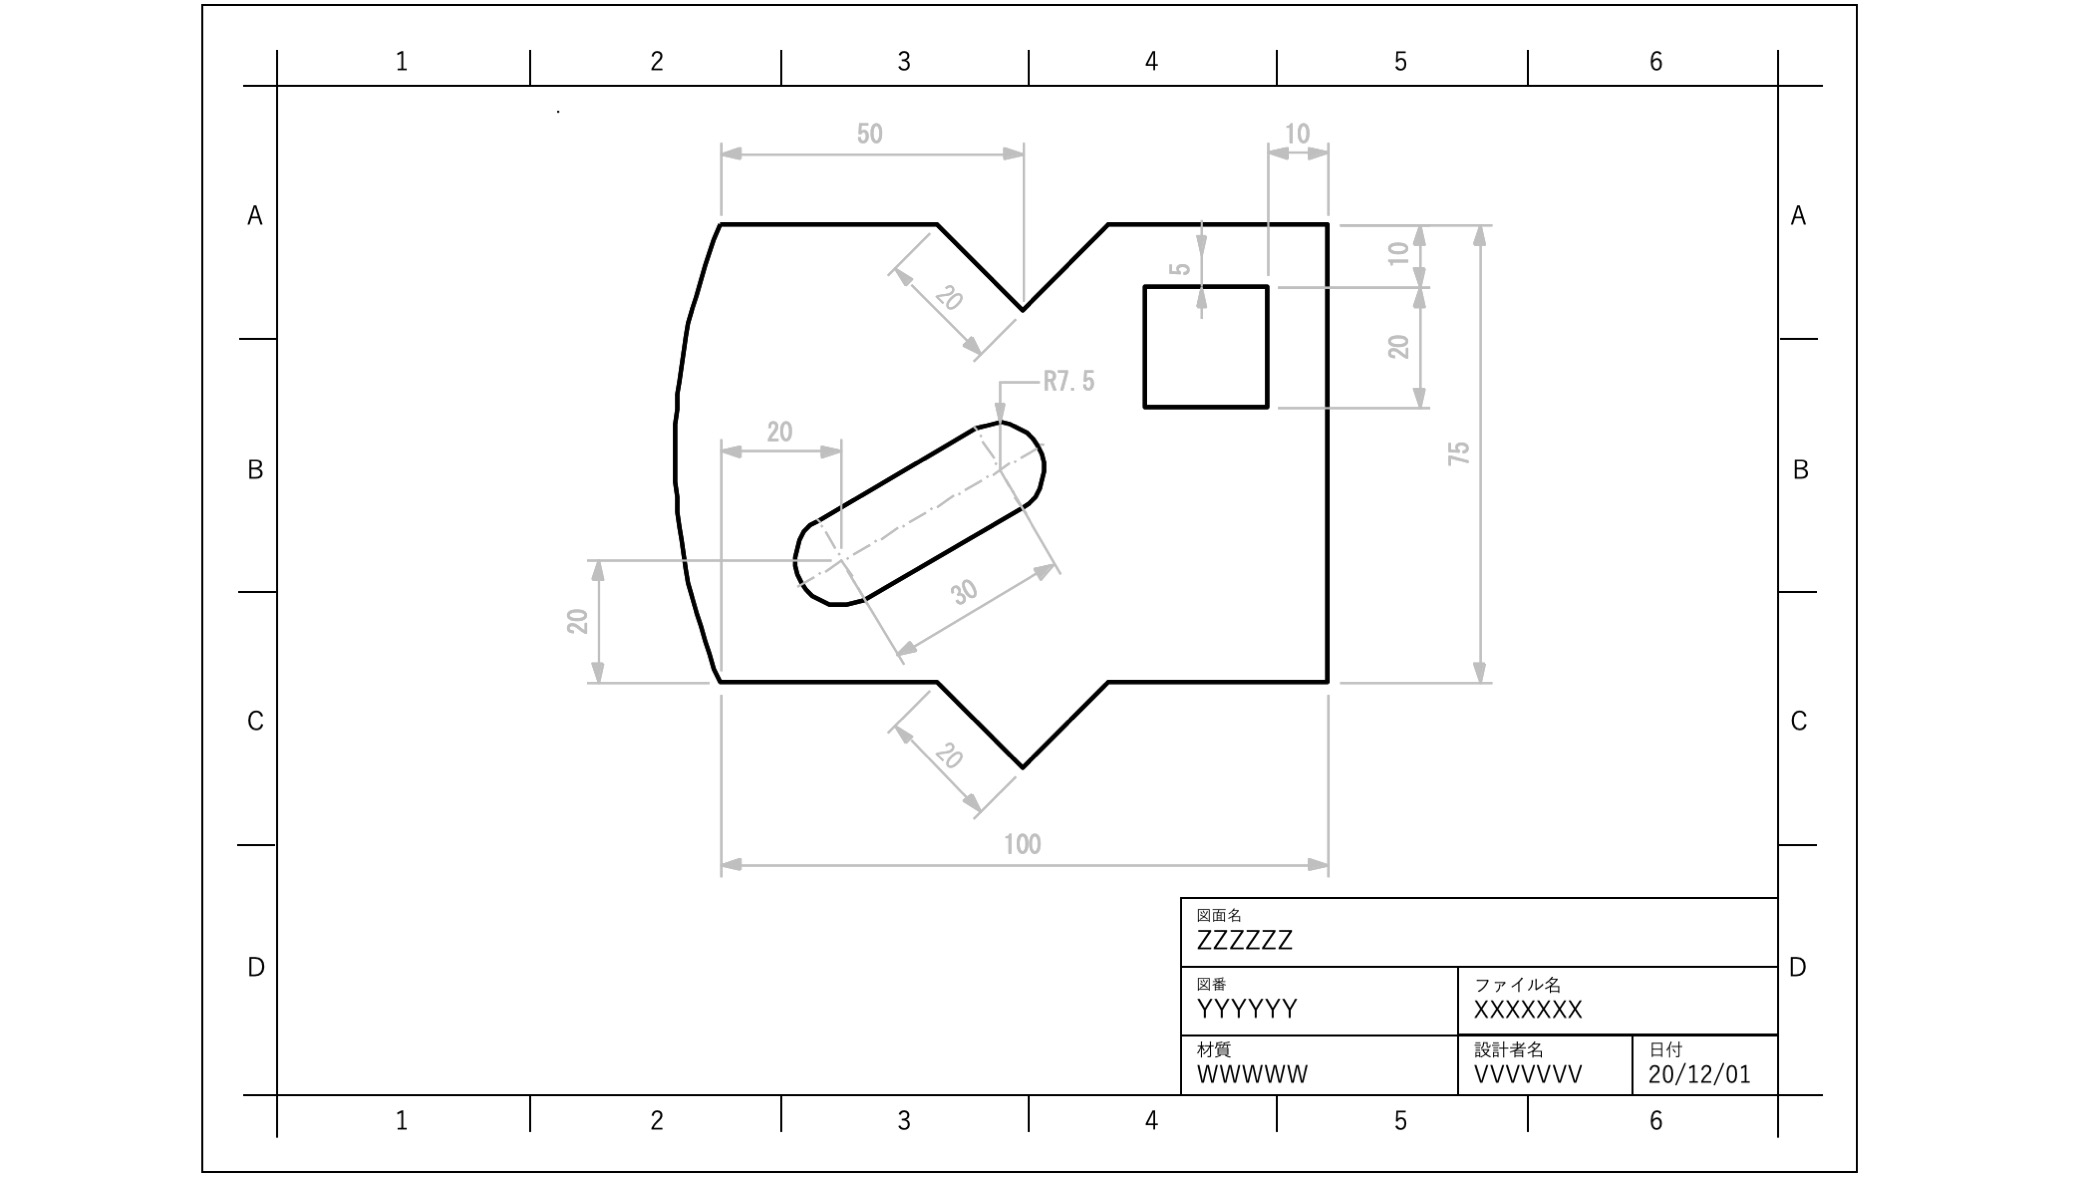rectangle: (1137, 270, 1276, 421)
round_rectangle: (785, 405, 1064, 614)
